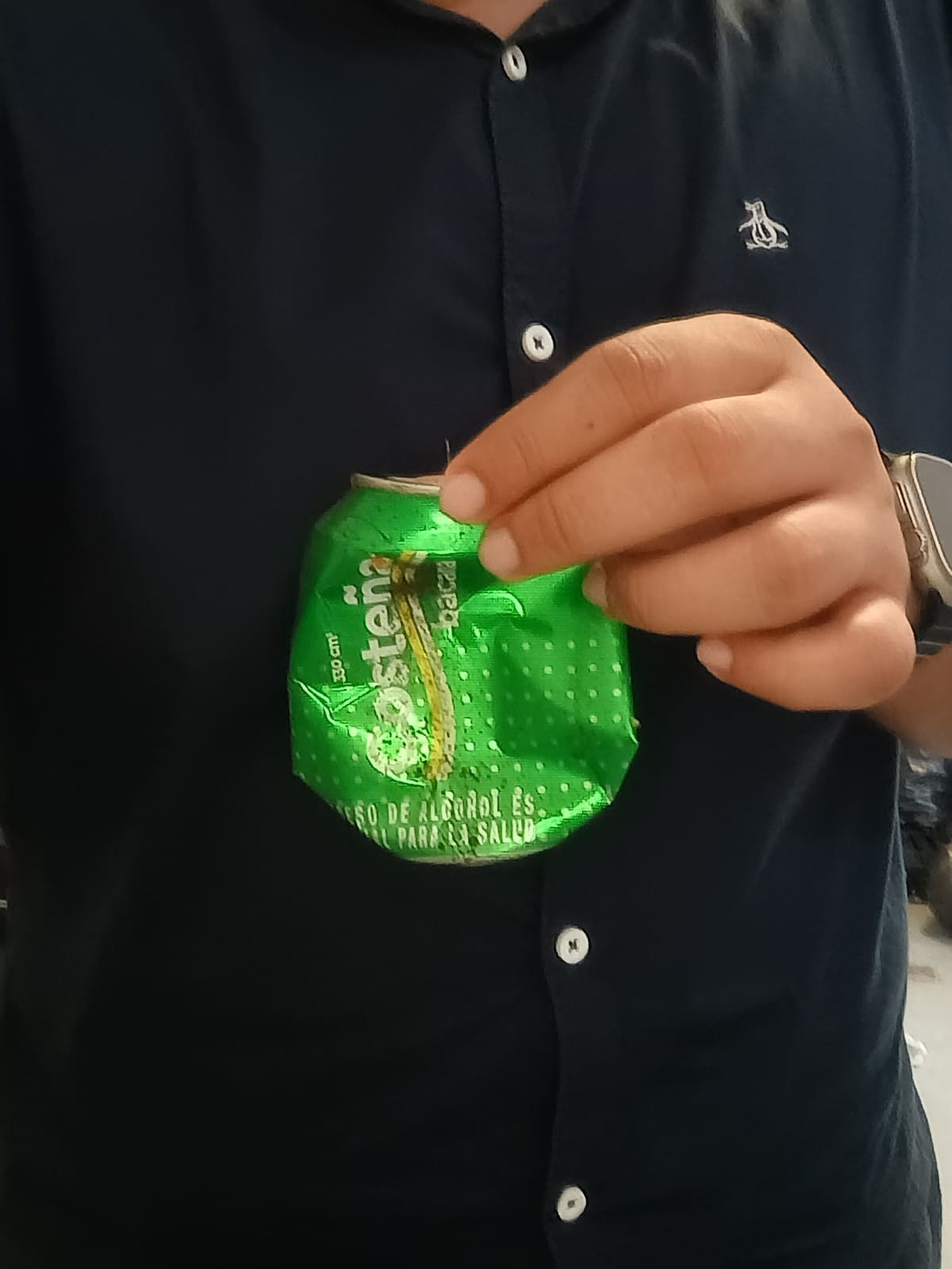Metal: (292, 469, 637, 862)
